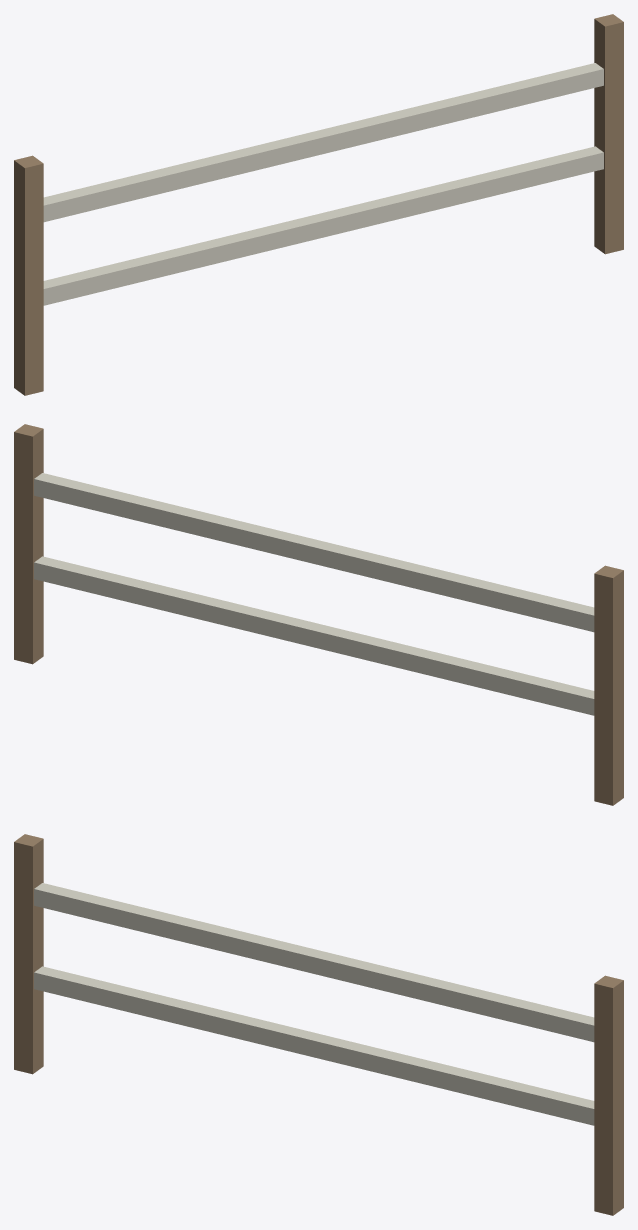
The picture shows the model from 3 angles, top to bottom: view 1: azimuth 30°, elevation 25°; view 2: azimuth 150°, elevation 25°; view 3: azimuth 330°, elevation 25°; orthographic projection.
Bounding box in the file's own units: 4.13 × 1.5 × 0.13.
